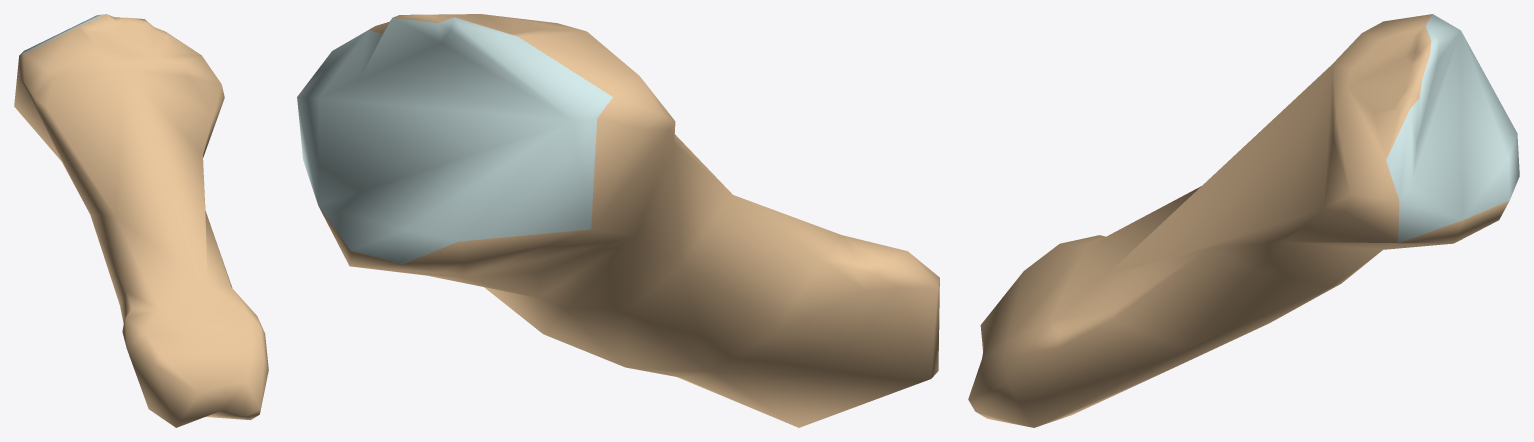
The model's file is Distal_phalanx_of_2d_finger.r_Generated_Mesh_From_X3D.733.glb.
3 renders of one model, left to right at view 1: azimuth 30°, elevation 25°; view 2: azimuth 150°, elevation 25°; view 3: azimuth 270°, elevation 25°, orthographic. The views are drawn at different scales.
Visible parts, largest first — view 1: Distal_phalanx_of_2d_finger.r_Generated_Mesh_From_X3D.733; view 2: Distal_phalanx_of_2d_finger.r_Generated_Mesh_From_X3D.733; view 3: Distal_phalanx_of_2d_finger.r_Generated_Mesh_From_X3D.733.
Part boxes in pixels (x1=…): Distal_phalanx_of_2d_finger.r_Generated_Mesh_From_X3D.733: x1=14, y1=14, x2=268, y2=427; Distal_phalanx_of_2d_finger.r_Generated_Mesh_From_X3D.733: x1=297, y1=14, x2=939, y2=427; Distal_phalanx_of_2d_finger.r_Generated_Mesh_From_X3D.733: x1=968, y1=14, x2=1519, y2=427.
Bounding box in the file's own units: 0.0104 × 0.0143 × 0.0176.
